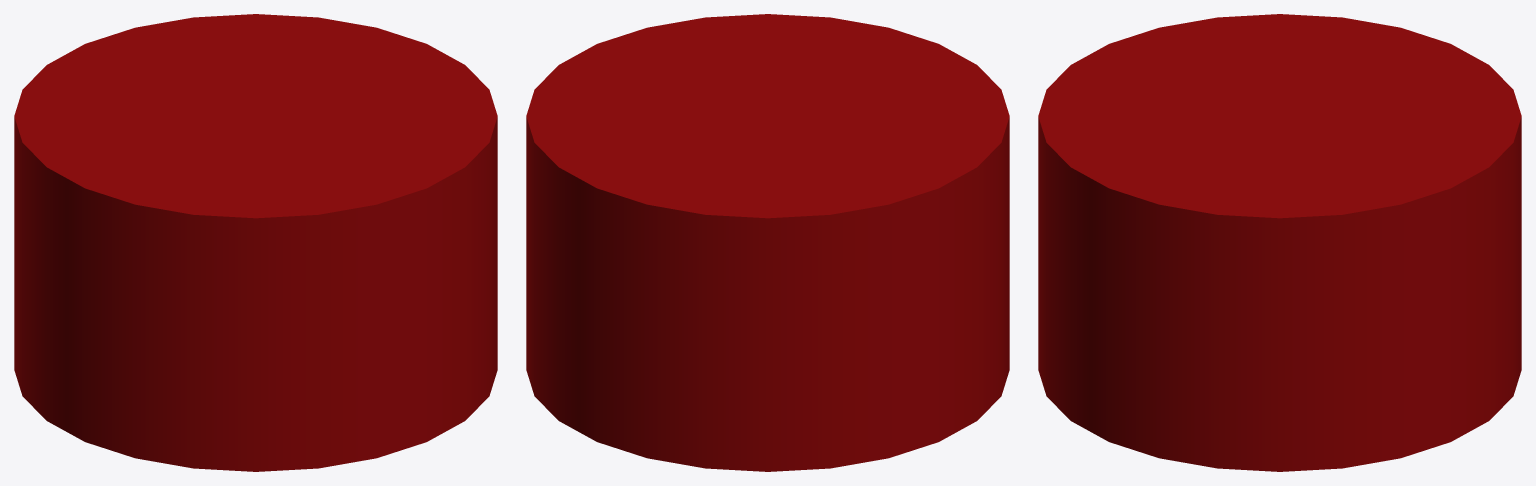
File: body_red.obj
3 renders of one model, left to right at view 1: azimuth 30°, elevation 25°; view 2: azimuth 150°, elevation 25°; view 3: azimuth 270°, elevation 25°, orthographic.
Parts seen in each view (by area): view 1: body_red; view 2: body_red; view 3: body_red.
Part boxes in pixels (box(x1,y1,x2,y2)): body_red: box(14, 14, 497, 471); body_red: box(526, 14, 1009, 471); body_red: box(1038, 14, 1521, 471).
Size of the model in its own units: 0.038 by 0.022 by 0.038.
